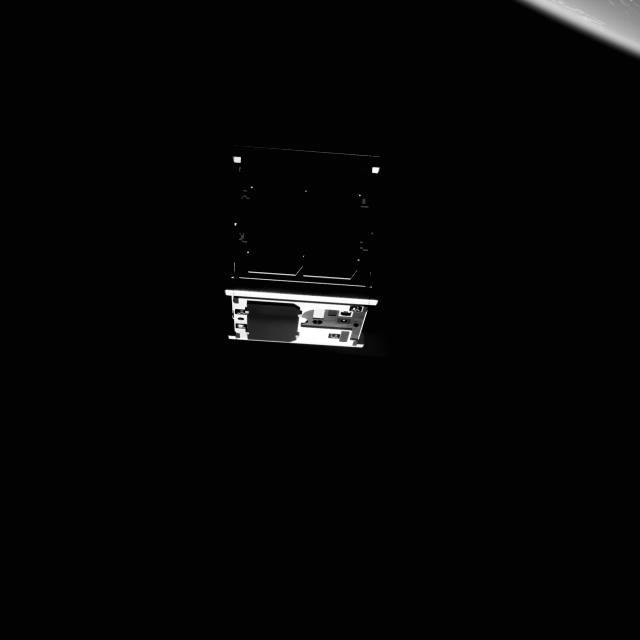medium_debris: (227, 133, 391, 355)
